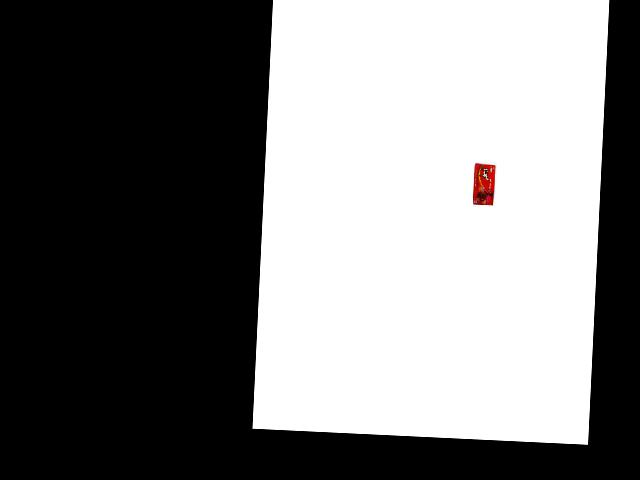chocolate: (470, 161, 495, 205)
